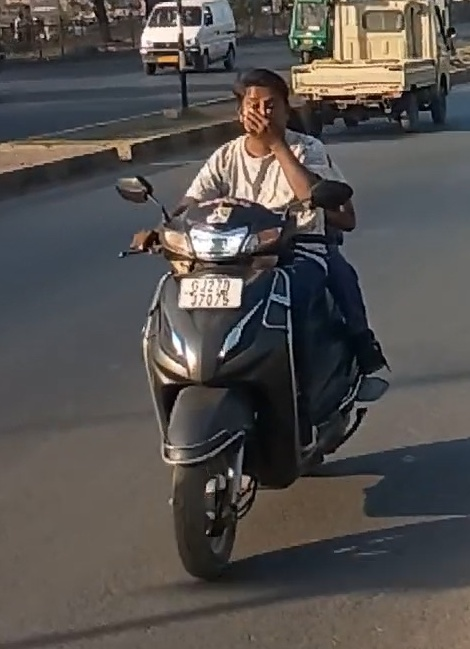BikeWithRider: (104, 61, 400, 588)
NoHelmet: (228, 63, 299, 141)
